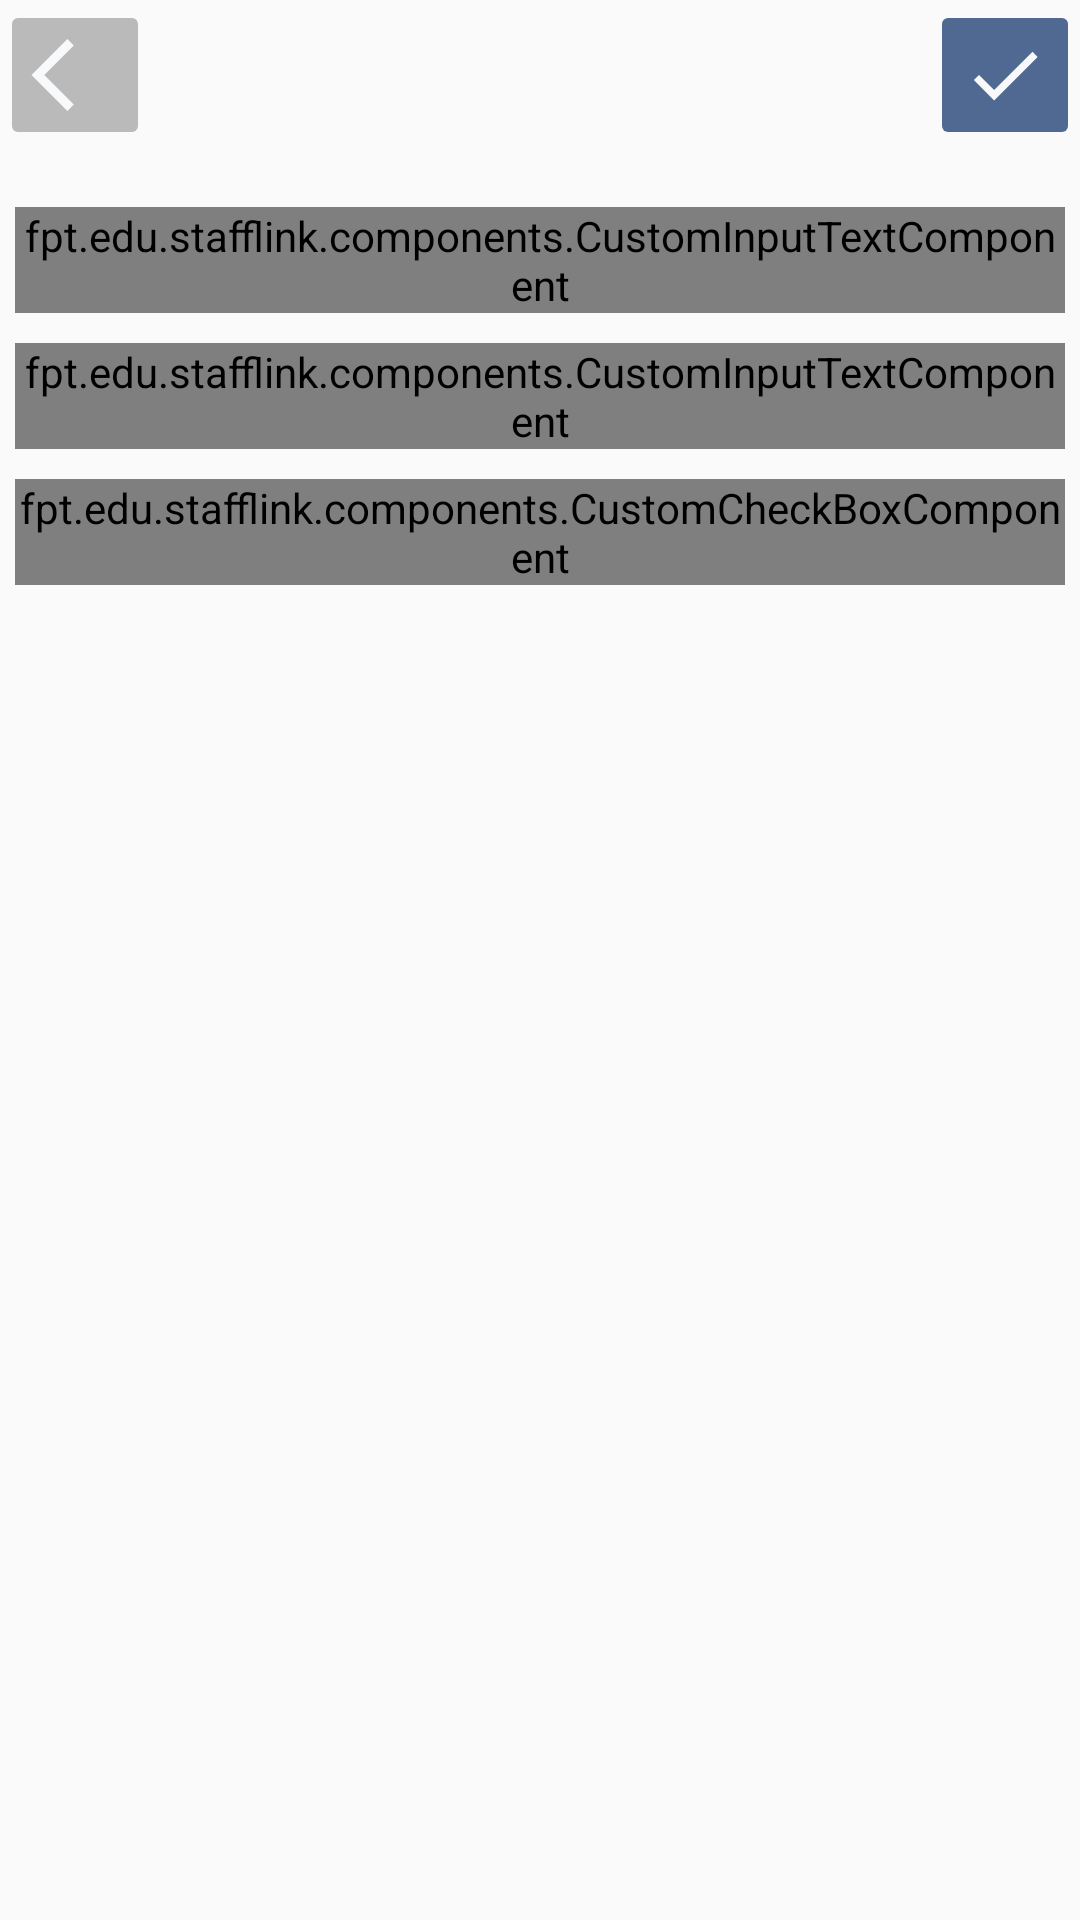

Icons on this 1080 x 1920 Android screen, each with its box as (left=x1, top=y1, right=x2, bottom=y2):
back: (left=12, top=18, right=138, bottom=132)
check: (left=942, top=18, right=1068, bottom=132)
